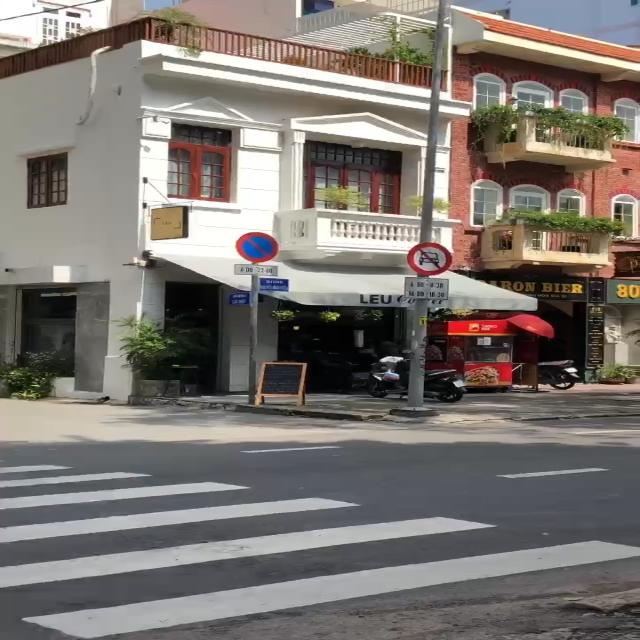Bien bao cam do xe: (228, 229, 280, 263)
Bien bao cam xe oto: (405, 240, 464, 280)
